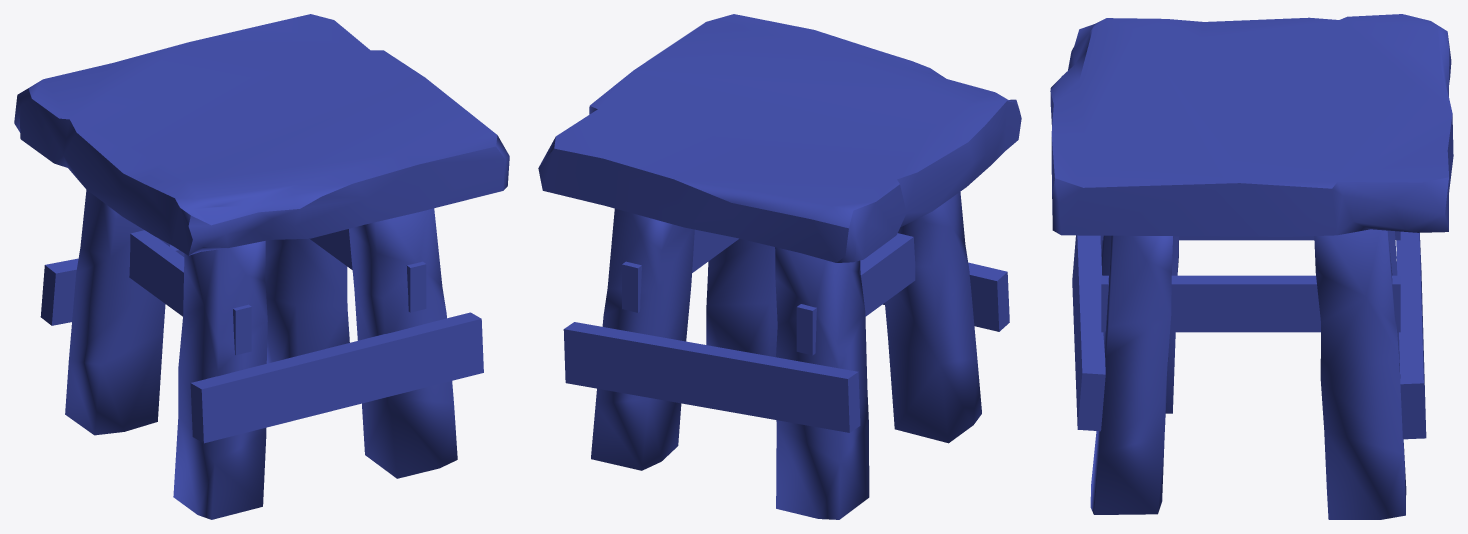
The model's file is scale_ref_chair50cm.fbx.
3 views of the same model, side by side, from view 1: azimuth 30°, elevation 25°; view 2: azimuth 150°, elevation 25°; view 3: azimuth 270°, elevation 25° (orthographic). The views are drawn at different scales.
Visible parts, largest first — view 1: low_Chair_parts018; view 2: low_Chair_parts018; view 3: low_Chair_parts018.
Boxes of the visible parts, x1=… form: low_Chair_parts018: x1=14, y1=14, x2=509, y2=519; low_Chair_parts018: x1=538, y1=14, x2=1021, y2=519; low_Chair_parts018: x1=1050, y1=14, x2=1453, y2=519.
Size of the model in its own units: 51.74 by 50.13 by 51.46.
